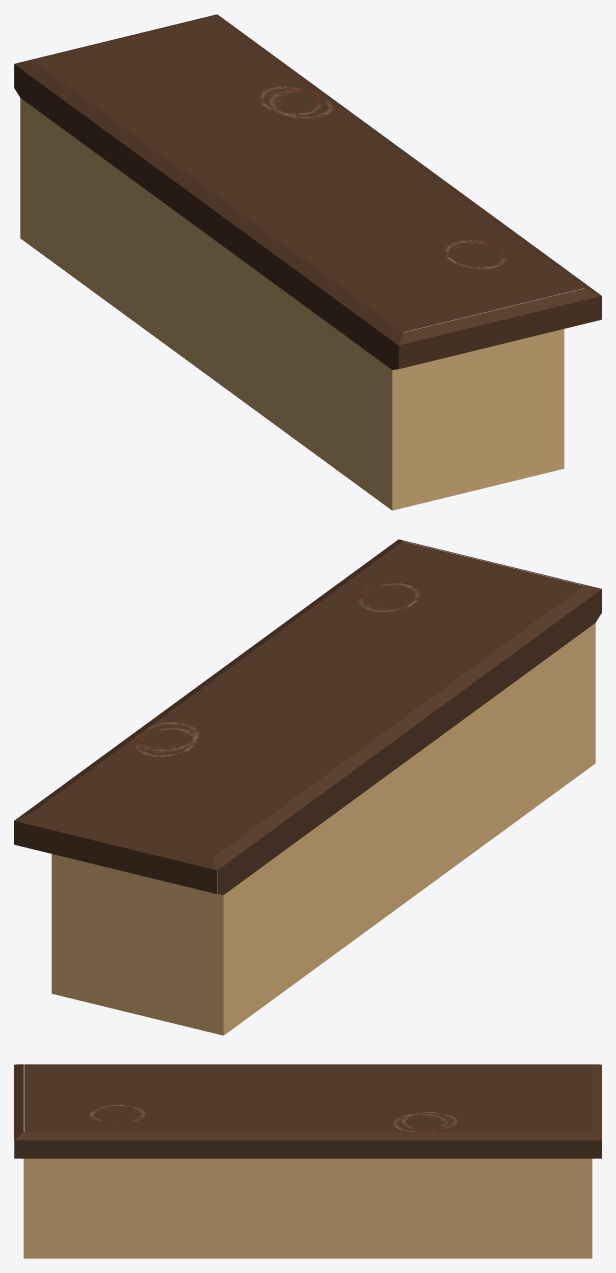
Rendered from Counter.fbx.
The picture shows the model from 3 angles, top to bottom: view 1: azimuth 30°, elevation 25°; view 2: azimuth 150°, elevation 25°; view 3: azimuth 270°, elevation 25°; orthographic projection. The views are drawn at different scales.
Parts seen in each view (by area): view 1: Counter; view 2: Counter; view 3: Counter.
Boxes of the visible parts, x1,y1,x2,y2 form: Counter: (14,14,601,510); Counter: (14,539,601,1035); Counter: (14,1064,601,1258).
Size of the model in its own units: 115 by 95.15 by 378.
